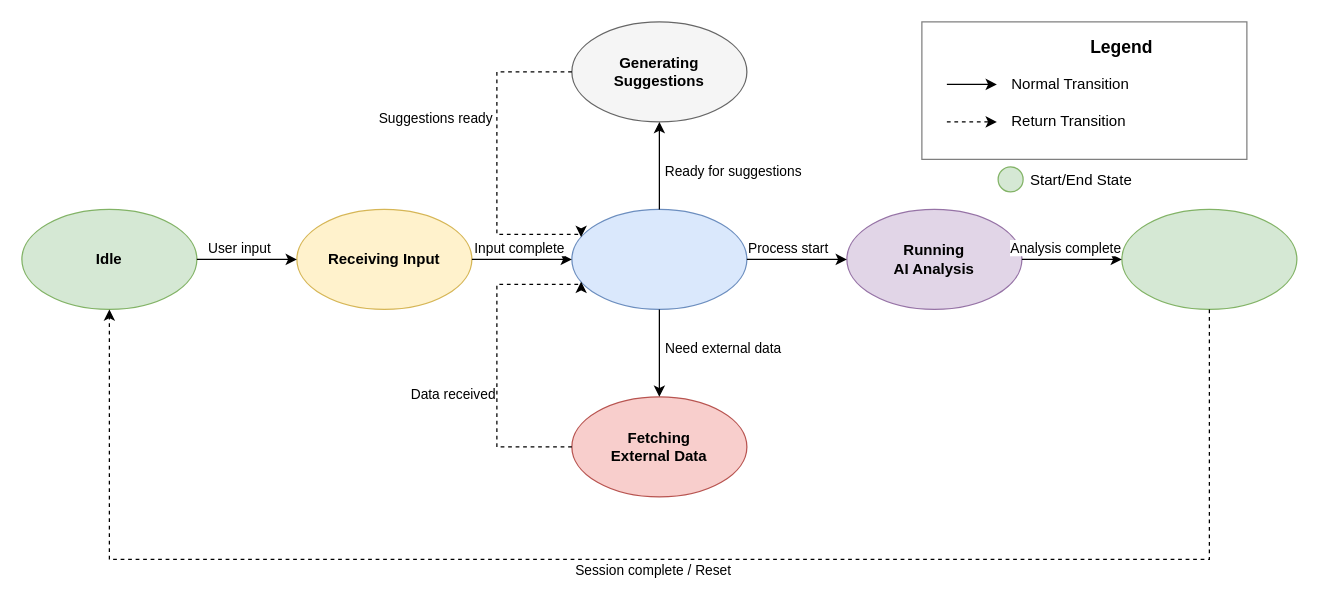
This 1319x600 diagram has some shape labels left out. The shapes that lost their labels are listed below. From the top down, each one's box as (x1, y1, x2, y2) in pixels, then its label:
(571, 208, 747, 309): Processing Request
(1121, 208, 1297, 309): Displaying Feedback
